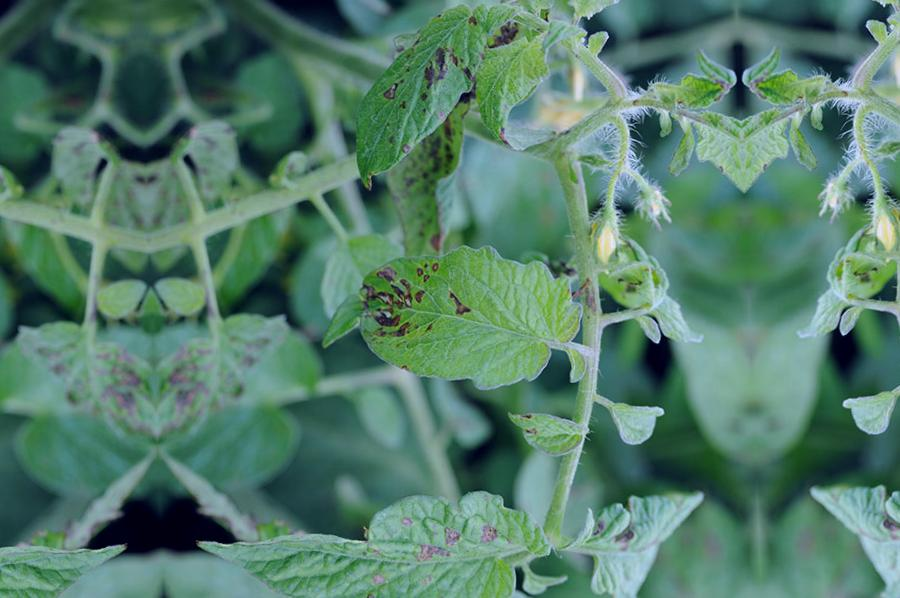Tomato leaf bacterial spot: (177, 482, 539, 598), (317, 250, 584, 401), (325, 0, 533, 158)
